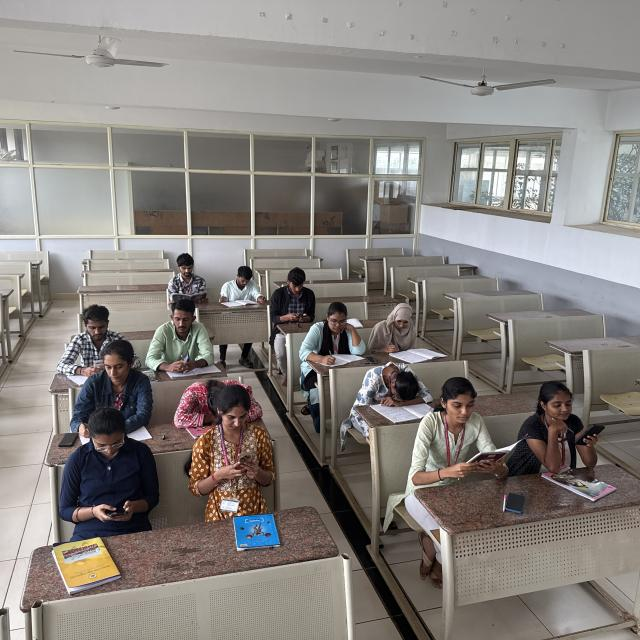Reading: (408, 359, 526, 477), (208, 256, 274, 320), (153, 246, 221, 304)
Sleeping: (178, 378, 274, 433), (346, 351, 436, 406)
Using Phone: (514, 356, 632, 470), (63, 409, 161, 540), (188, 388, 278, 504), (54, 301, 147, 377), (145, 296, 224, 377), (266, 262, 322, 331)
Writing: (69, 342, 159, 436), (361, 300, 448, 364), (302, 304, 370, 369)
